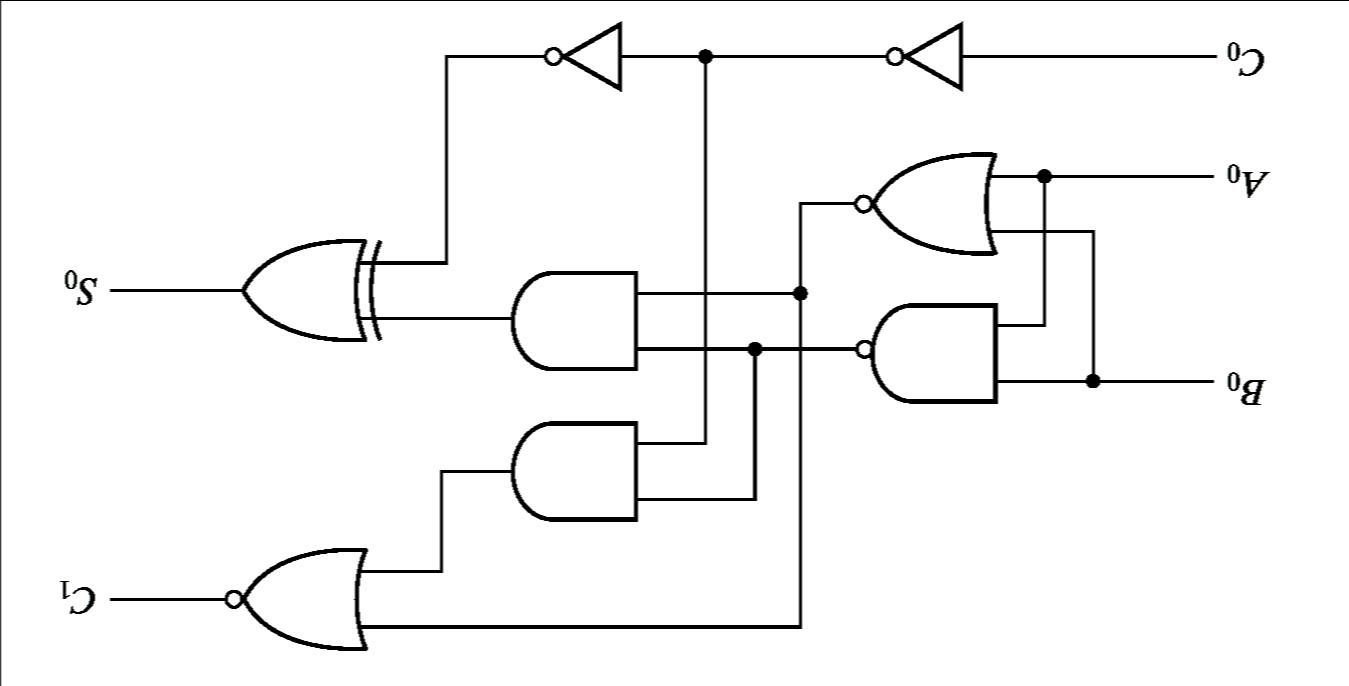and: (480, 393, 668, 543), (492, 245, 657, 388)
nand: (843, 292, 1010, 412)
nor: (203, 524, 390, 672), (840, 143, 1011, 264)
not: (870, 16, 977, 100), (534, 11, 632, 99)
xor: (204, 214, 406, 360)
